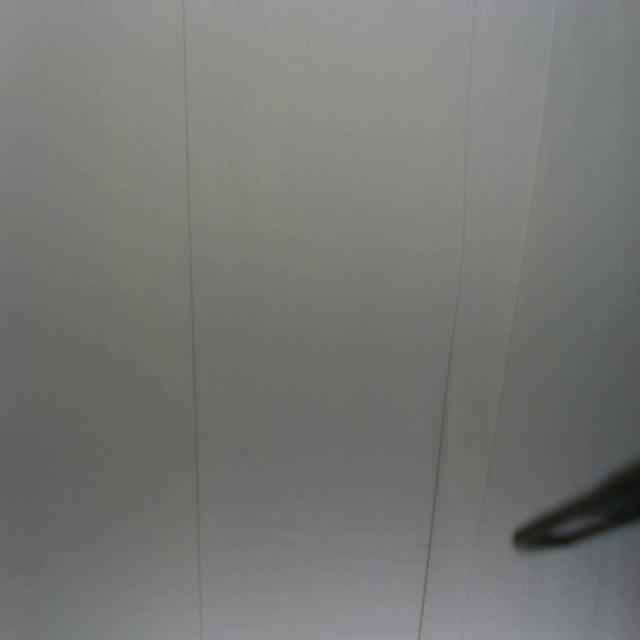crease: (418, 1, 477, 639), (498, 0, 560, 404), (180, 0, 204, 638)
